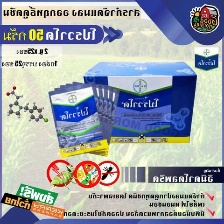book: (80, 59, 199, 145)
insecticide: (45, 80, 111, 160)
